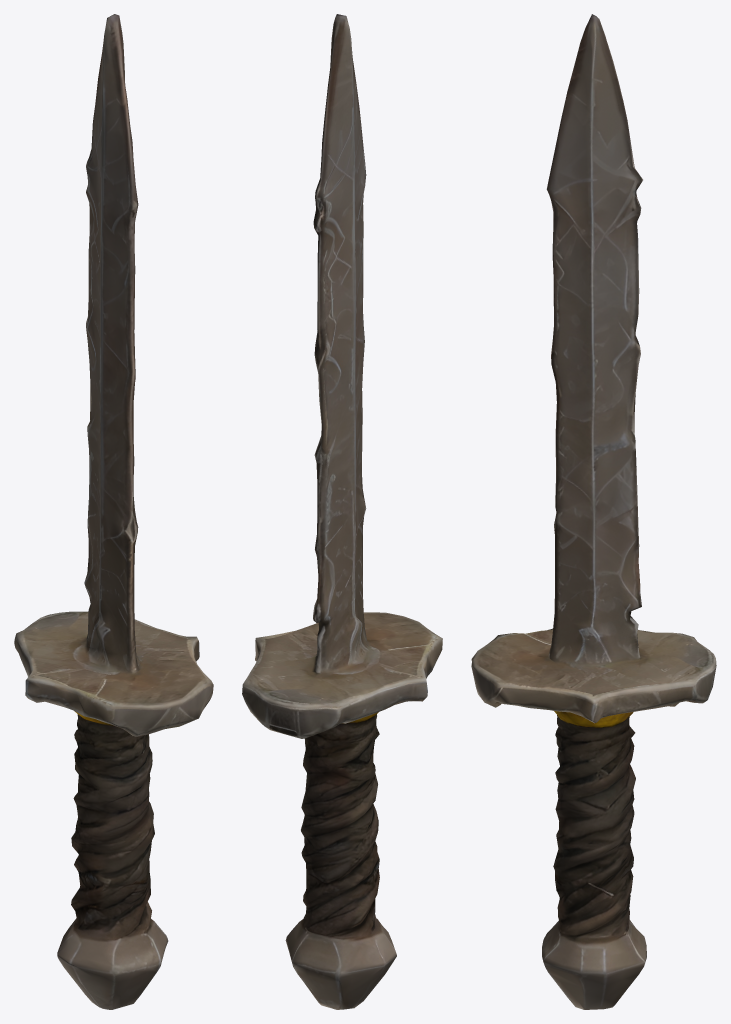
Rendered from wpn_irondagger.glb.
3 renders of one model, left to right at view 1: azimuth 30°, elevation 25°; view 2: azimuth 150°, elevation 25°; view 3: azimuth 270°, elevation 25°, orthographic.
Parts seen in each view (by area): view 1: tripo_node_c3945215-f7c3-4e1f-927b-58d44fc73c1b; view 2: tripo_node_c3945215-f7c3-4e1f-927b-58d44fc73c1b; view 3: tripo_node_c3945215-f7c3-4e1f-927b-58d44fc73c1b.
Part boxes in pixels (<box>): tripo_node_c3945215-f7c3-4e1f-927b-58d44fc73c1b: <box>14,14,213,1009</box>; tripo_node_c3945215-f7c3-4e1f-927b-58d44fc73c1b: <box>242,14,442,1009</box>; tripo_node_c3945215-f7c3-4e1f-927b-58d44fc73c1b: <box>471,14,716,1009</box>.
Bounding box in the file's own units: 0.1833 × 0.9999 × 0.2248.
1 material, 1 textured.
